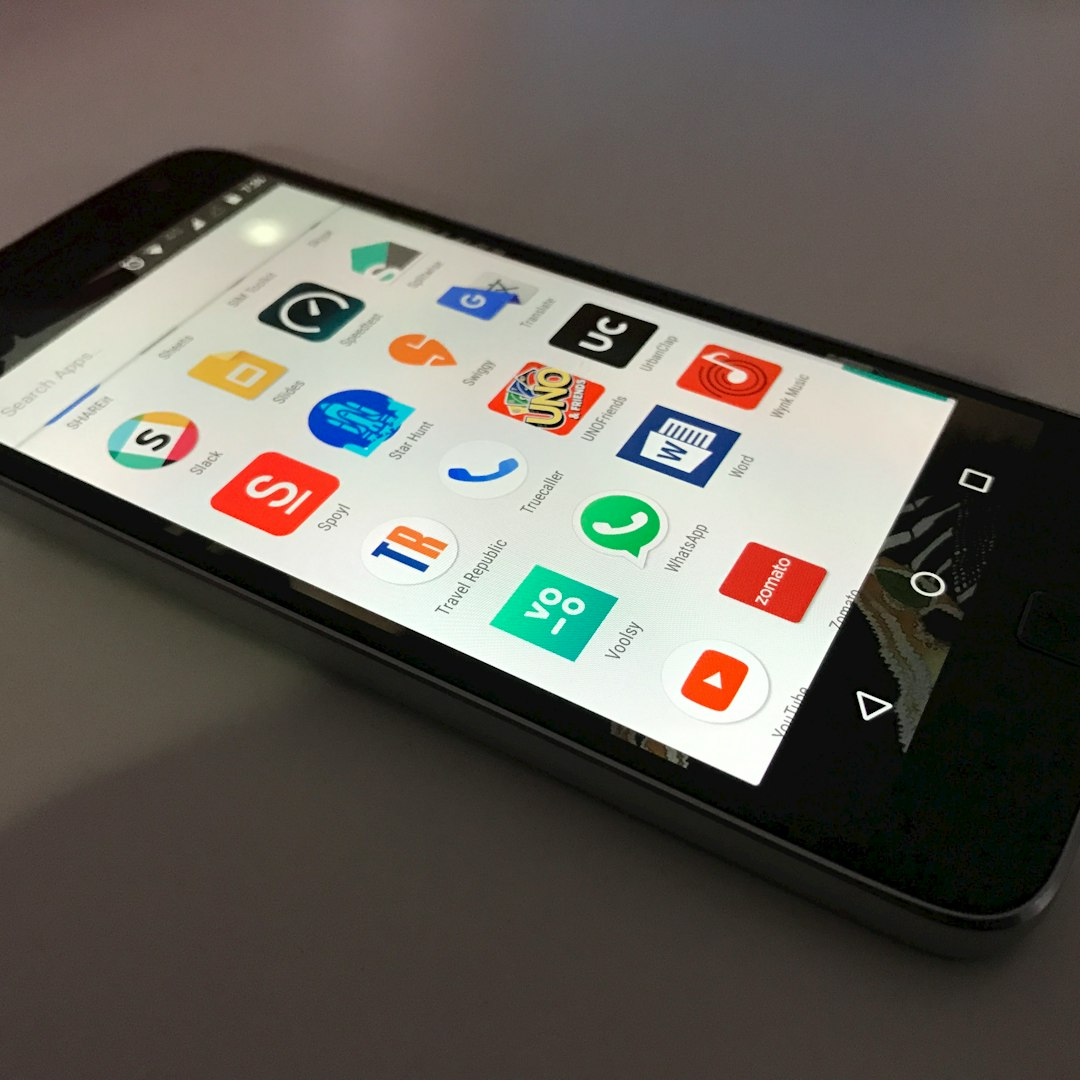phone: (2, 146, 1078, 959)
